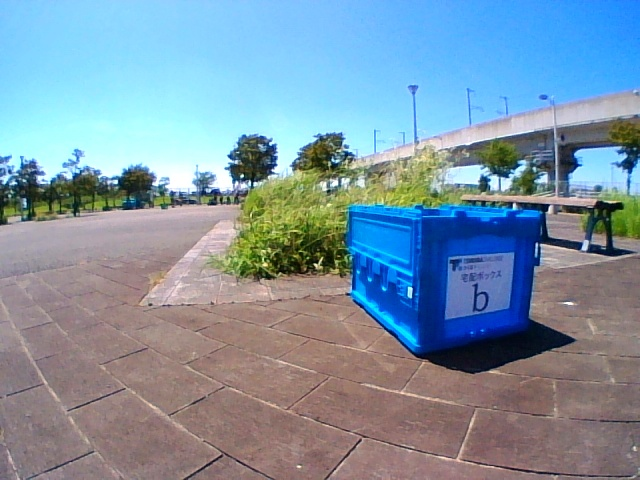blue_box: (384, 210, 526, 327)
tag_b: (446, 269, 505, 312)
